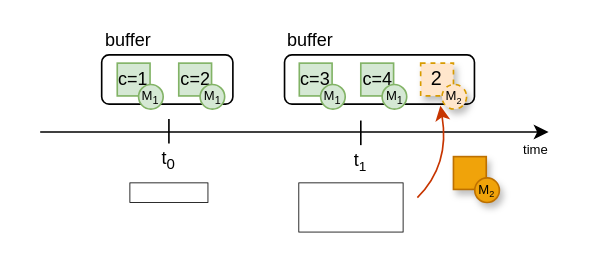
The diagram is 590 pixels wide and 261 high, and some of its shapes have lost their labels. Here are the shapes that lost their labels. From the top down, the centre of each, then its label:
At point 168,192: "prev = 2".
At point 470,174: "diff".
At point 350,207: "diff = 4 - prev prev = 4".
